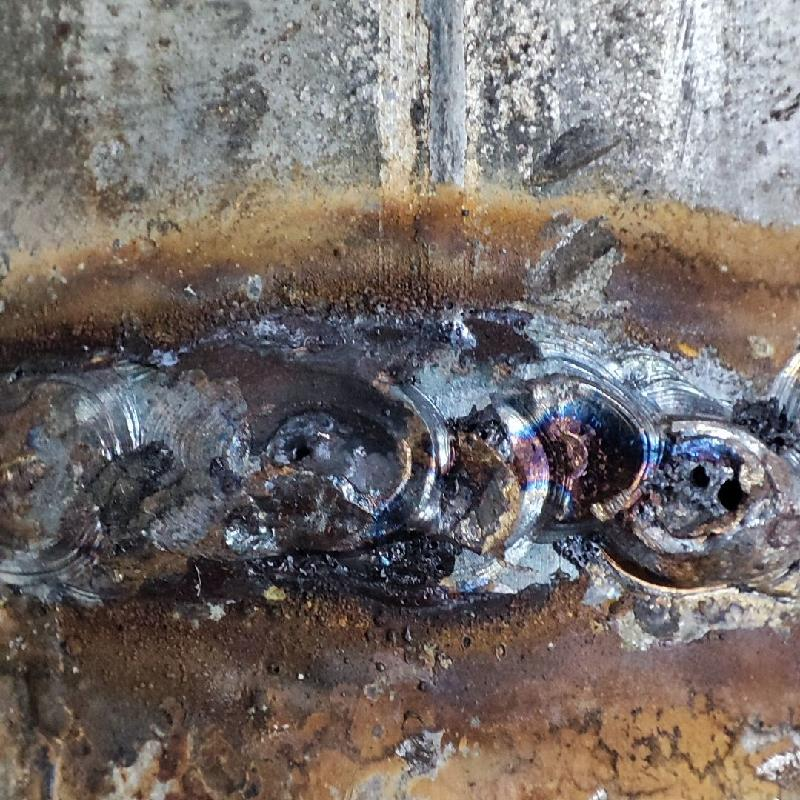Surface_pores: (679, 439, 763, 530), (272, 420, 335, 477)
crater: (233, 326, 799, 610)
wrong_size: (3, 345, 206, 612)
